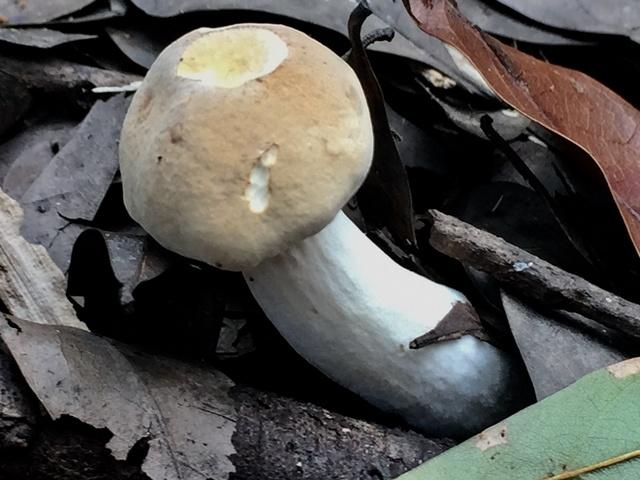edible_mushroom: (116, 20, 526, 436)
